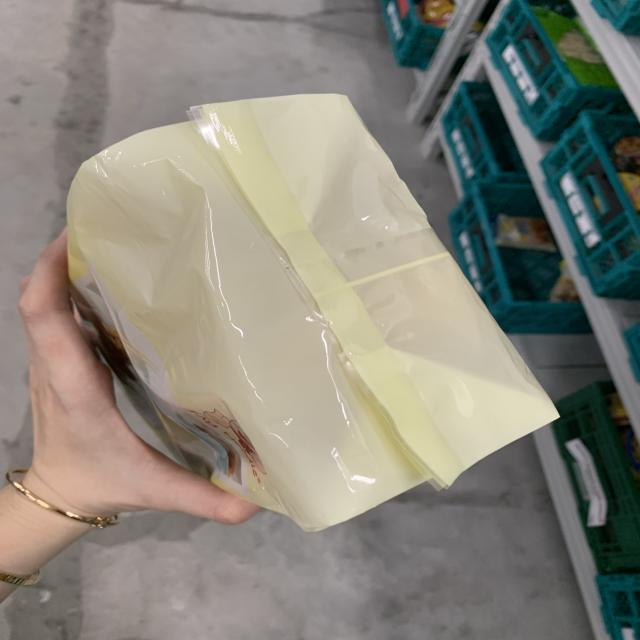object_name: (89, 116, 529, 500)
